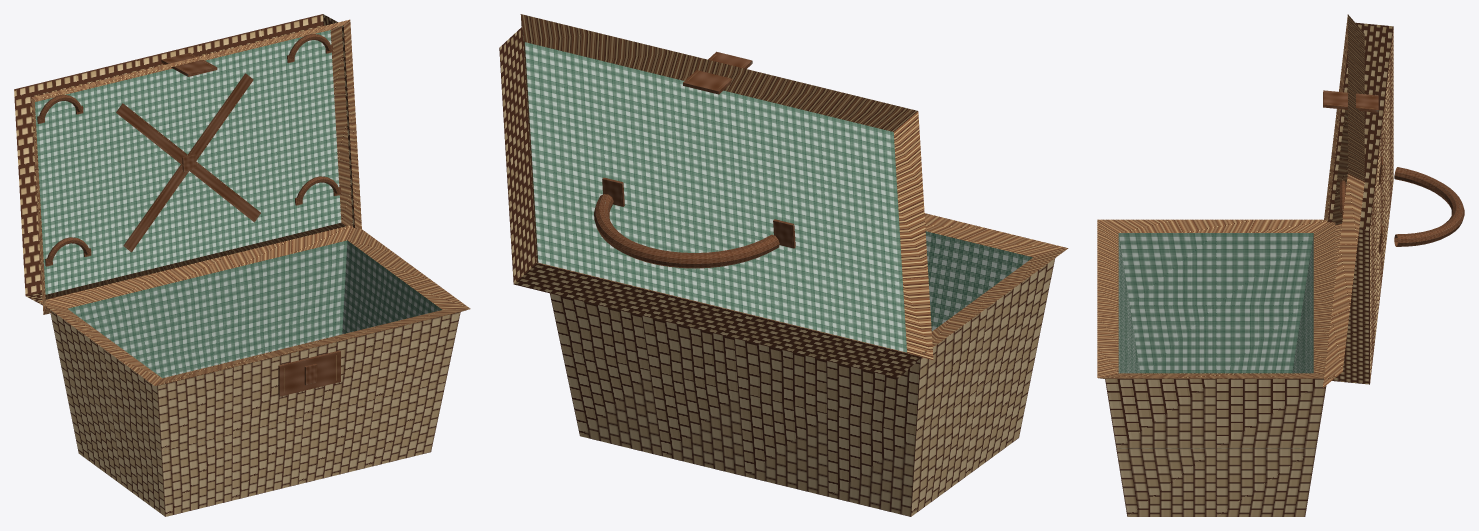
File: picnic_basket.obj
3 views of the same model, side by side, from view 1: azimuth 30°, elevation 25°; view 2: azimuth 150°, elevation 25°; view 3: azimuth 270°, elevation 25° (orthographic). The views are drawn at different scales.
Visible parts, largest first — view 1: gingham, wicker_body, wicker_rim, leather, wicker_lid; view 2: gingham, wicker_body, wicker_rim, wicker_lid, leather; view 3: wicker_body, gingham, wicker_rim, wicker_lid, leather.
Part boxes in pixels (bbox=[...]): gingham: bbox=[35, 30, 441, 378]; wicker_body: bbox=[50, 310, 460, 516]; wicker_rim: bbox=[31, 19, 470, 385]; leather: bbox=[37, 33, 341, 396]; wicker_lid: bbox=[14, 14, 354, 307]; gingham: bbox=[525, 42, 1032, 352]; wicker_body: bbox=[550, 258, 1055, 516]; wicker_rim: bbox=[520, 14, 1068, 359]; wicker_lid: bbox=[499, 26, 921, 378]; leather: bbox=[594, 51, 795, 268]; wicker_body: bbox=[1105, 379, 1326, 516]; gingham: bbox=[1118, 233, 1313, 373]; wicker_rim: bbox=[1097, 14, 1364, 387]; wicker_lid: bbox=[1328, 22, 1393, 384]; leather: bbox=[1323, 90, 1464, 253].
Bounding box in the file's own units: 44.2 × 46 × 42.93.
5 materials, 5 textured.
